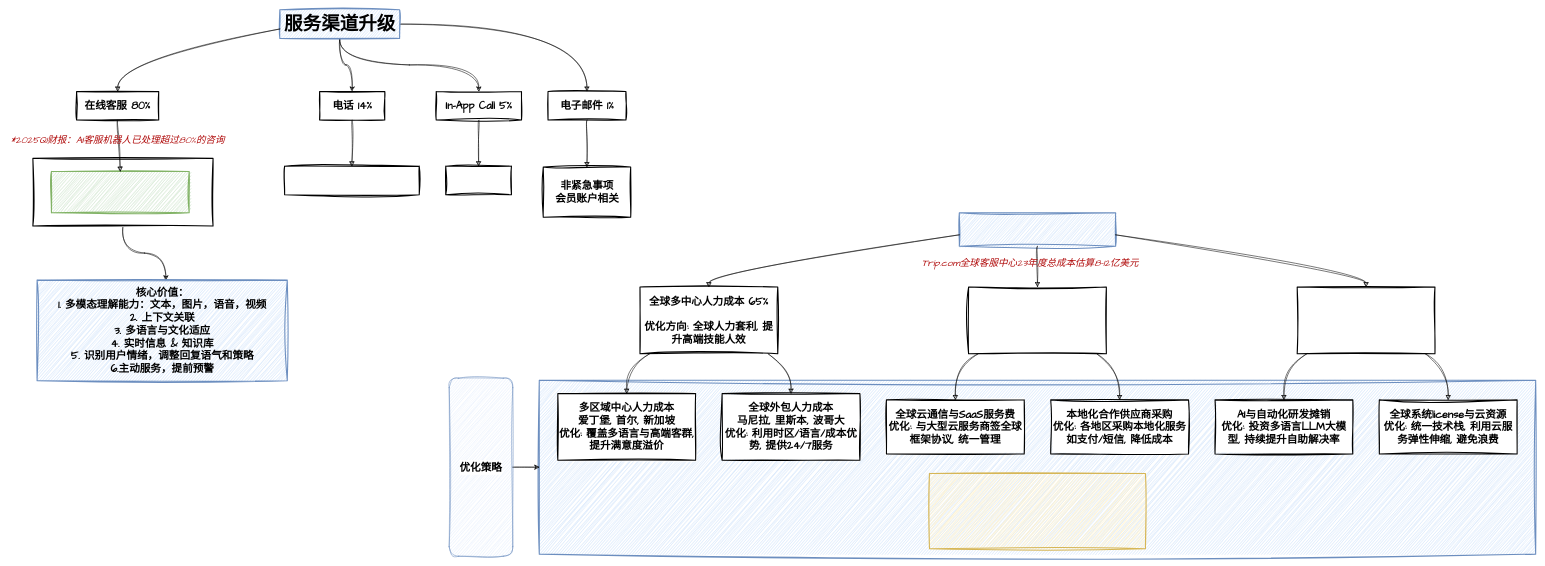
The diagram is 1545 pixels wide and 566 high, and some of its shapes have lost their labels. Here are the shapes that lost their labels. From the top down, the box of each, then its label:
(51, 171, 189, 213): LLM AI Agent：传统Chatbot的升级
(284, 165, 419, 195): 全球18个客服中心超1000人
(445, 165, 512, 195): 忠实客户
(959, 212, 1116, 246): 客服成本分析
(968, 286, 1107, 354): 外包与采购成本 15% 优化方向: 建立全球外包网络, 引入竞争
(1296, 286, 1435, 354): 技术与基础设施成本 20% 优化方向: 投资AI与自动化, 降低单位互动成本
(929, 473, 1146, 549): 根本性优化 1. 完善产品体验，减少咨询 2. 化被动应对为主动提前通知
